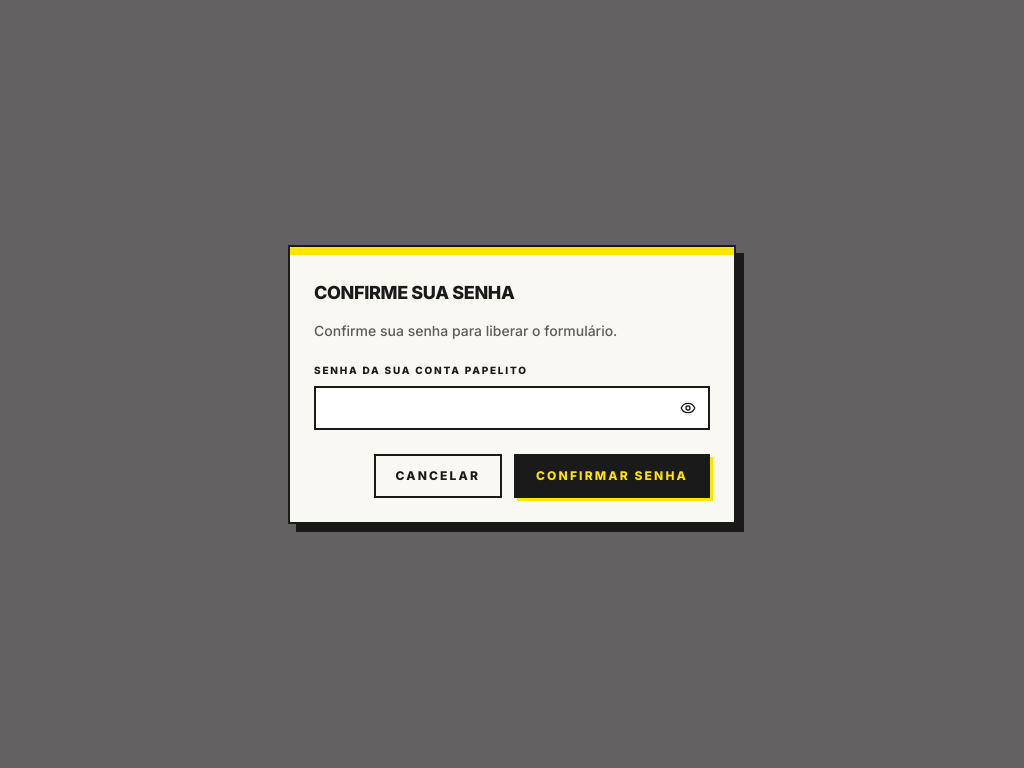
Test: VendorReauthModal › senha recusada fica no diálogo e não avança
In the password field labelled "Senha da sua conta Papelito": (512, 408) left=314, top=386, right=710, bottom=430, type "errada"
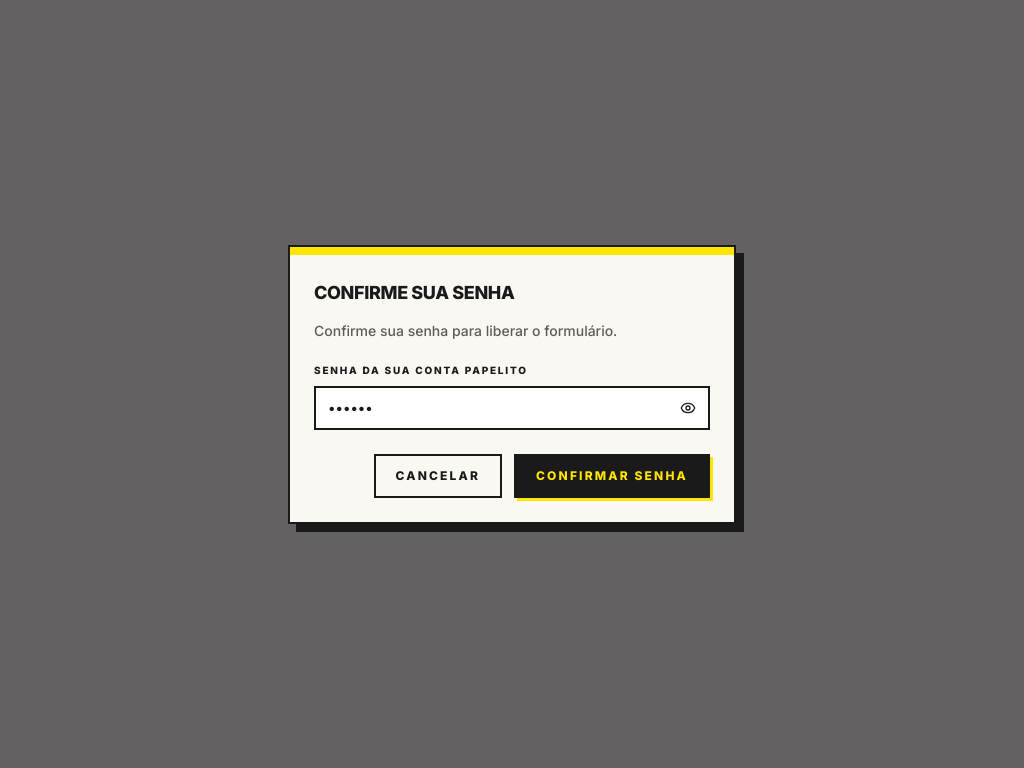
Click the button "Confirmar senha": click(612, 476) left=514, top=454, right=710, bottom=498
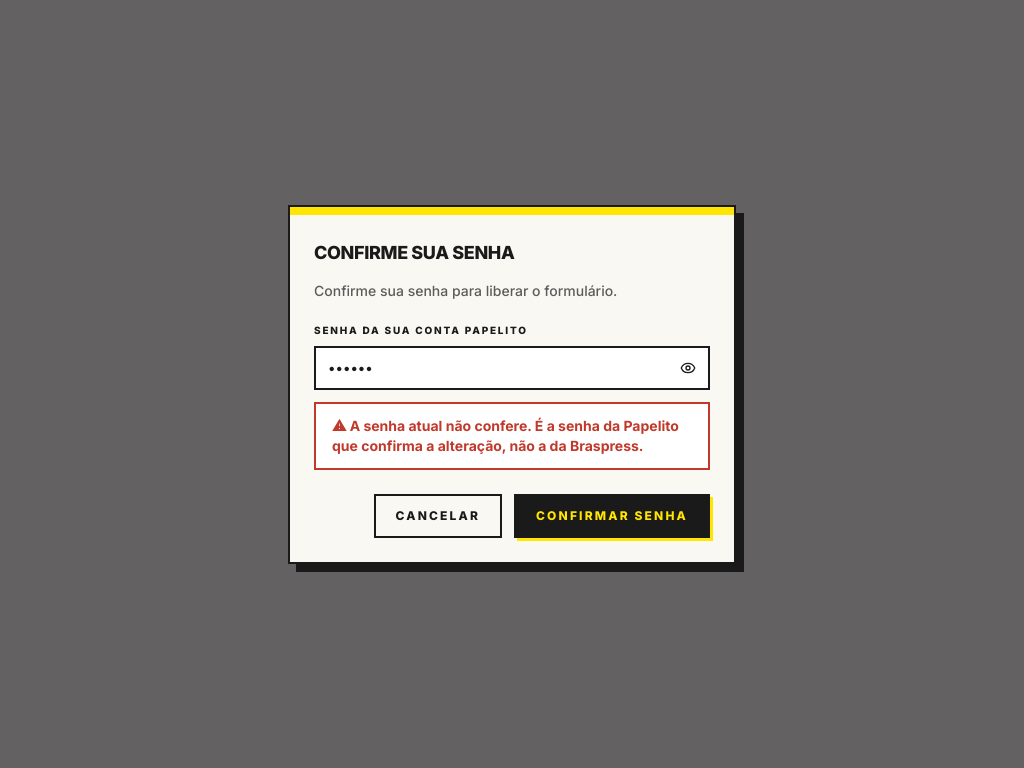
Expected: the dialog is shown, left=288, top=204, right=736, bottom=564
Expected: the message shows "senha da Papelito", left=332, top=416, right=679, bottom=454
